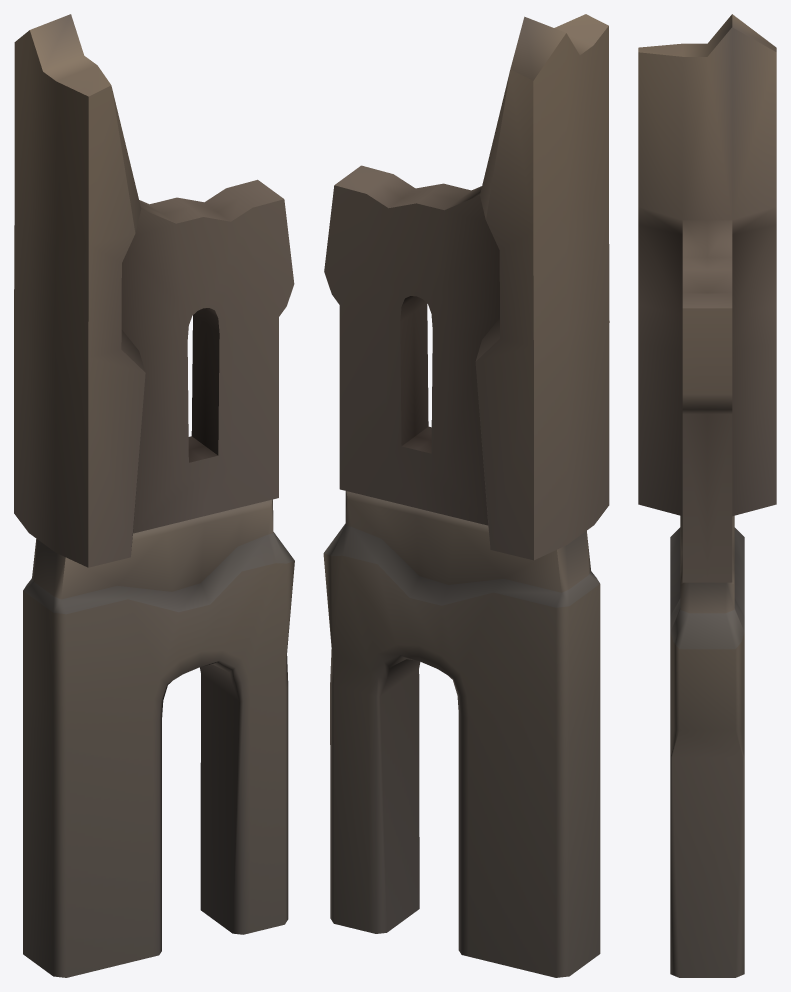
File: Ruins_CathedralRuins_alt28.glb
The picture shows the model from 3 angles, left to right: view 1: azimuth 30°, elevation 25°; view 2: azimuth 150°, elevation 25°; view 3: azimuth 270°, elevation 25°; orthographic projection. The views are drawn at different scales.
Visible parts, largest first — view 1: base107; view 2: base107; view 3: base107.
Part boxes in pixels (left/top/right/bottom): base107: left=14, top=14, right=294, bottom=977; base107: left=323, top=14, right=609, bottom=977; base107: left=638, top=14, right=776, bottom=977.
Bounding box in the file's own units: 5.97 × 21.85 × 3.16.
